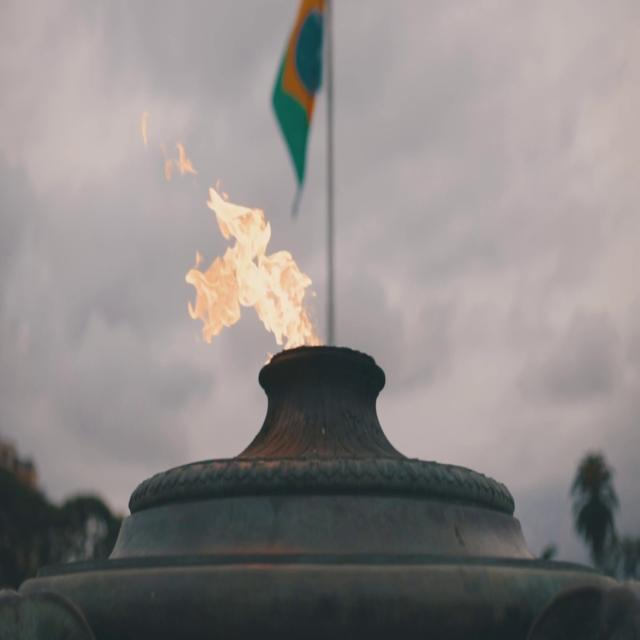Fire: (166, 162, 318, 358)
